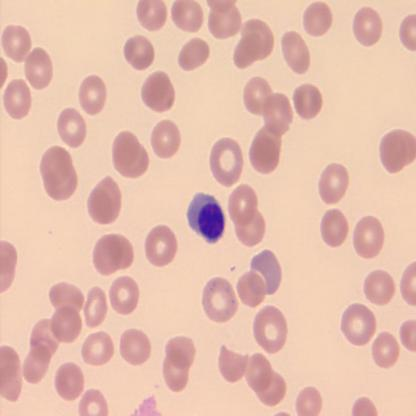NRC: (184, 191, 226, 246)
